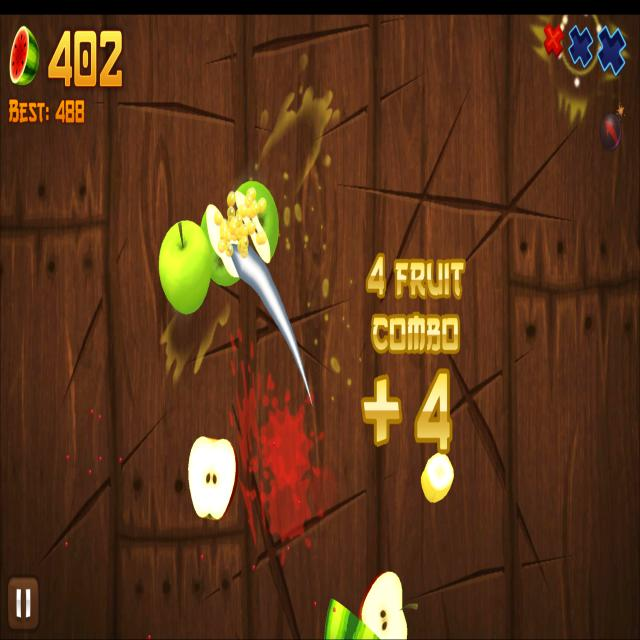fruit: (158, 220, 211, 314)
